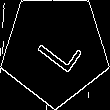L_NW: (27, 22, 83, 76)
